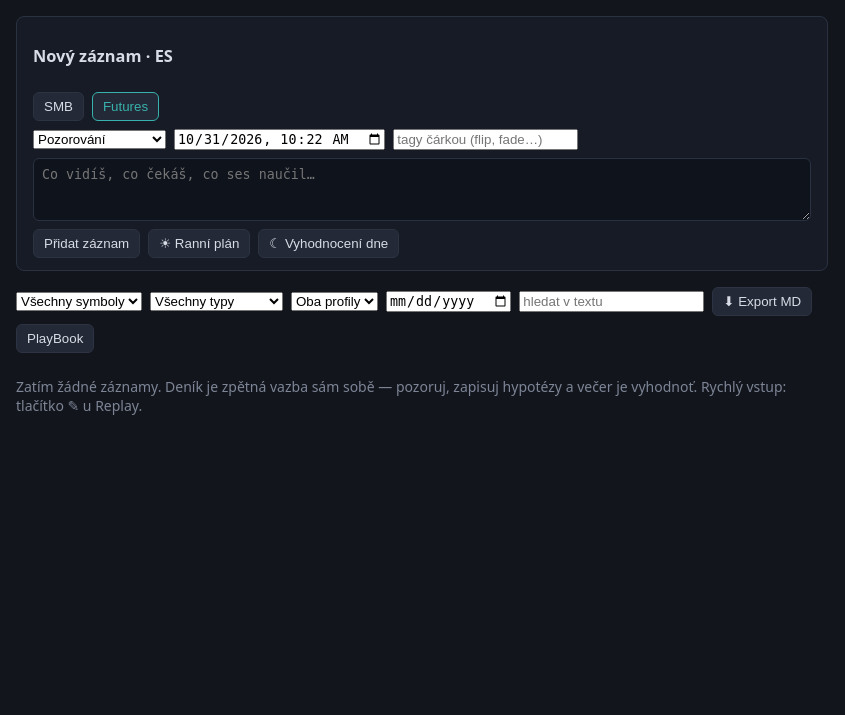
Test: obchod bez setupu se neodešle a řekne proč (#710)
Step 1. Select "Obchod" in the dropdown named "Typ záznamu" → {"x": 100, "y": 139}, box [33,130,166,149]
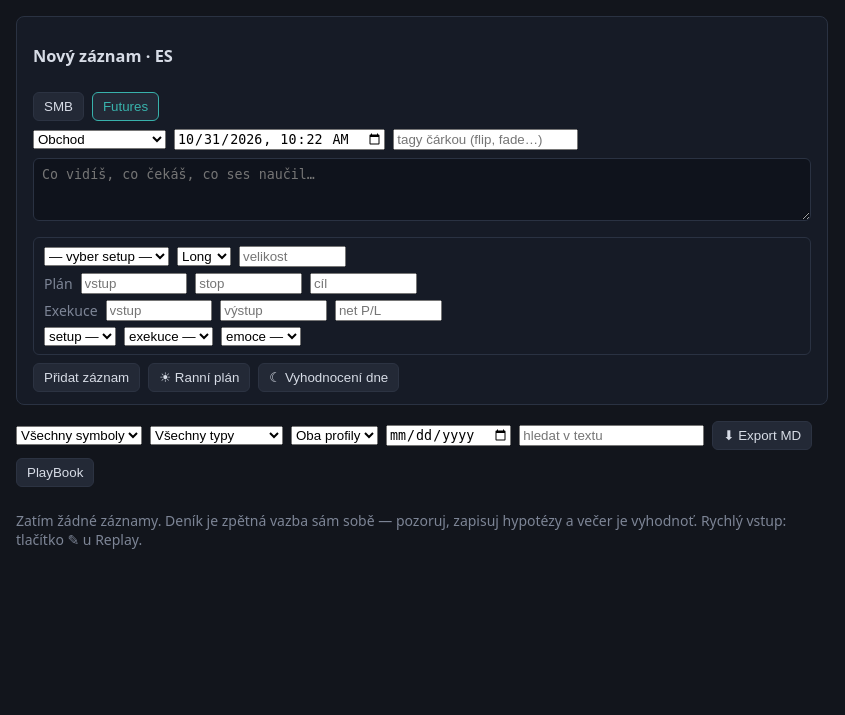
Expected: the dropdown named "Setup z playbooku" is shown, [44,247,169,266]
Step 2. Type "Fade zdi." into the text box named "Text záznamu" → {"x": 422, "y": 190}, box [33,158,811,221]
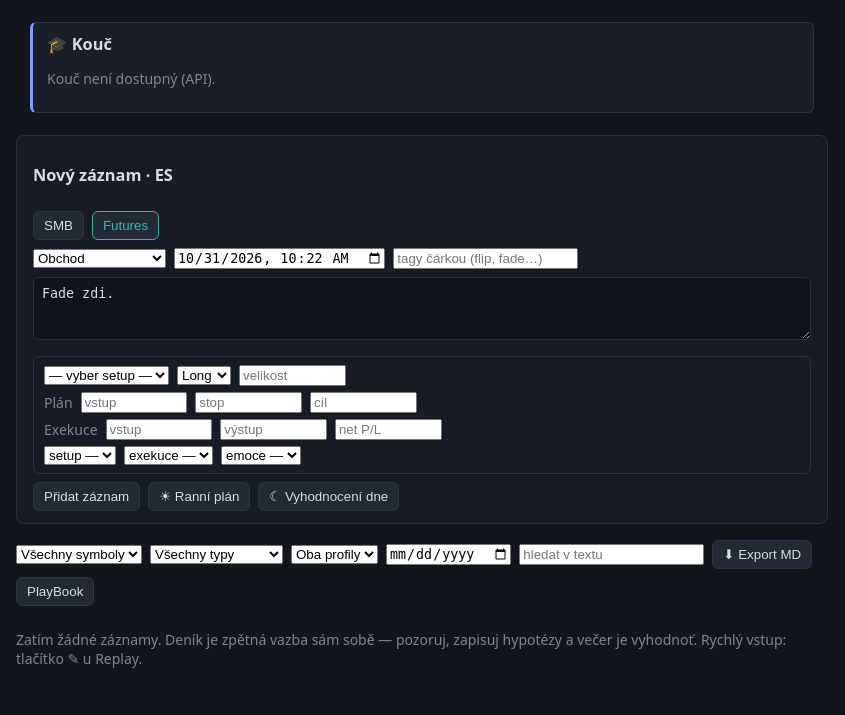
Step 3. Click the button "Přidat záznam" → {"x": 87, "y": 497}, box [33,482,140,511]
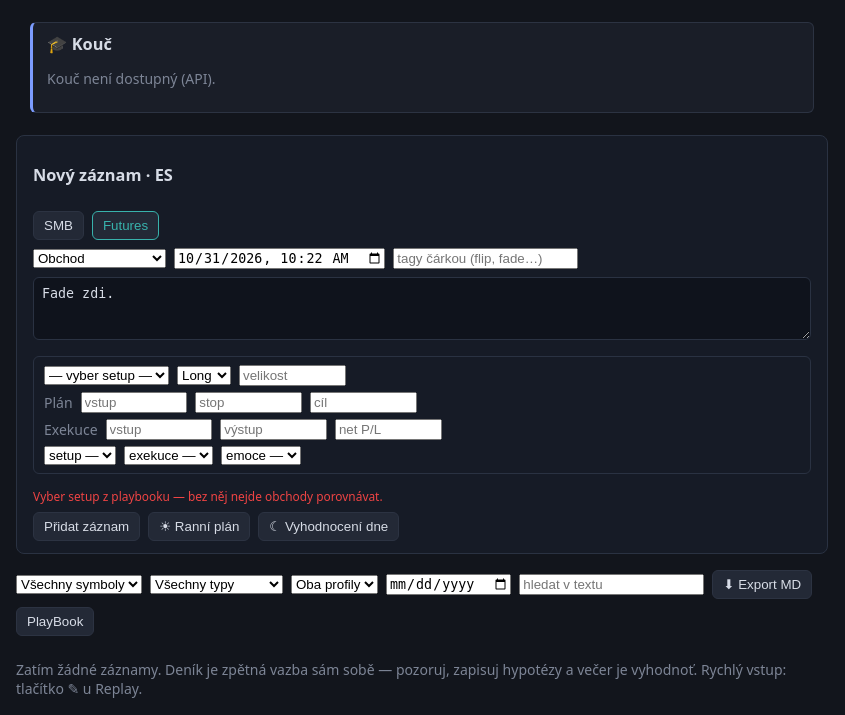
Expected: the text "Vyber setup z playbooku — bez něj nejde obchody porovnávat." is shown, [33,488,383,504]
